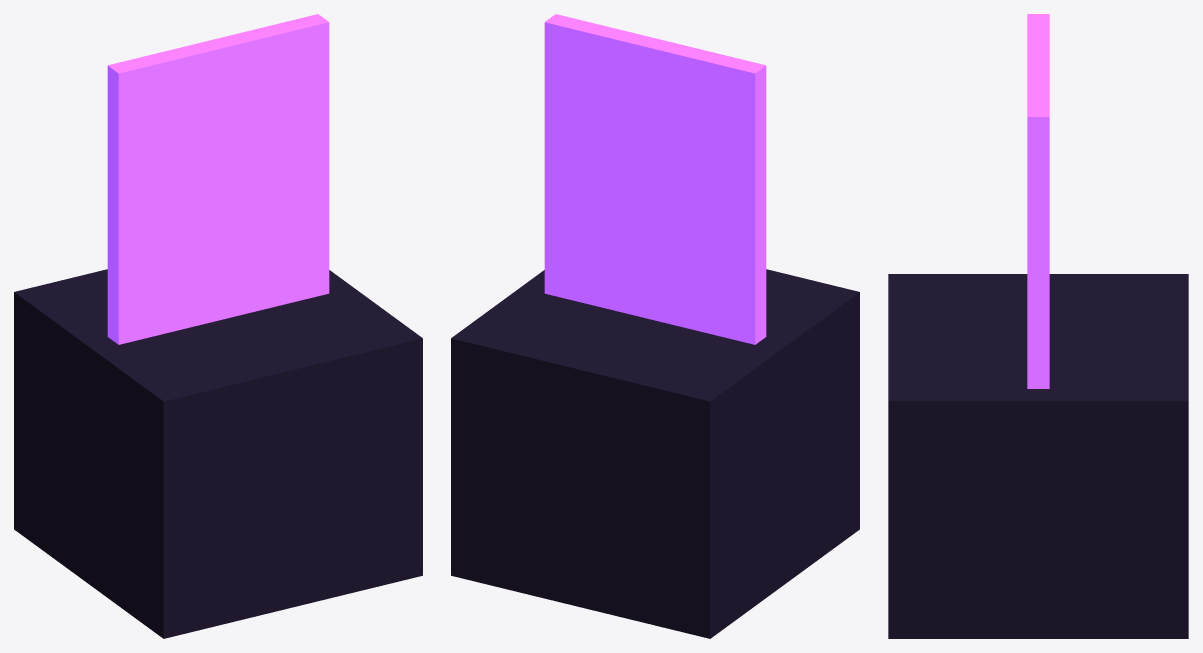
File: portfolio-pedestal.glb
The picture shows the model from 3 angles, left to right: view 1: azimuth 30°, elevation 25°; view 2: azimuth 150°, elevation 25°; view 3: azimuth 270°, elevation 25°; orthographic projection.
Parts seen in each view (by area): view 1: base, card; view 2: base, card; view 3: base, card.
Part boxes in pixels (bbox=[...]): base: bbox=[14, 269, 422, 638]; card: bbox=[107, 14, 329, 344]; base: bbox=[451, 269, 859, 638]; card: bbox=[544, 14, 766, 344]; base: bbox=[888, 274, 1188, 638]; card: bbox=[1027, 14, 1049, 388].
Bounding box in the file's own units: 1.6 × 3 × 1.6.
